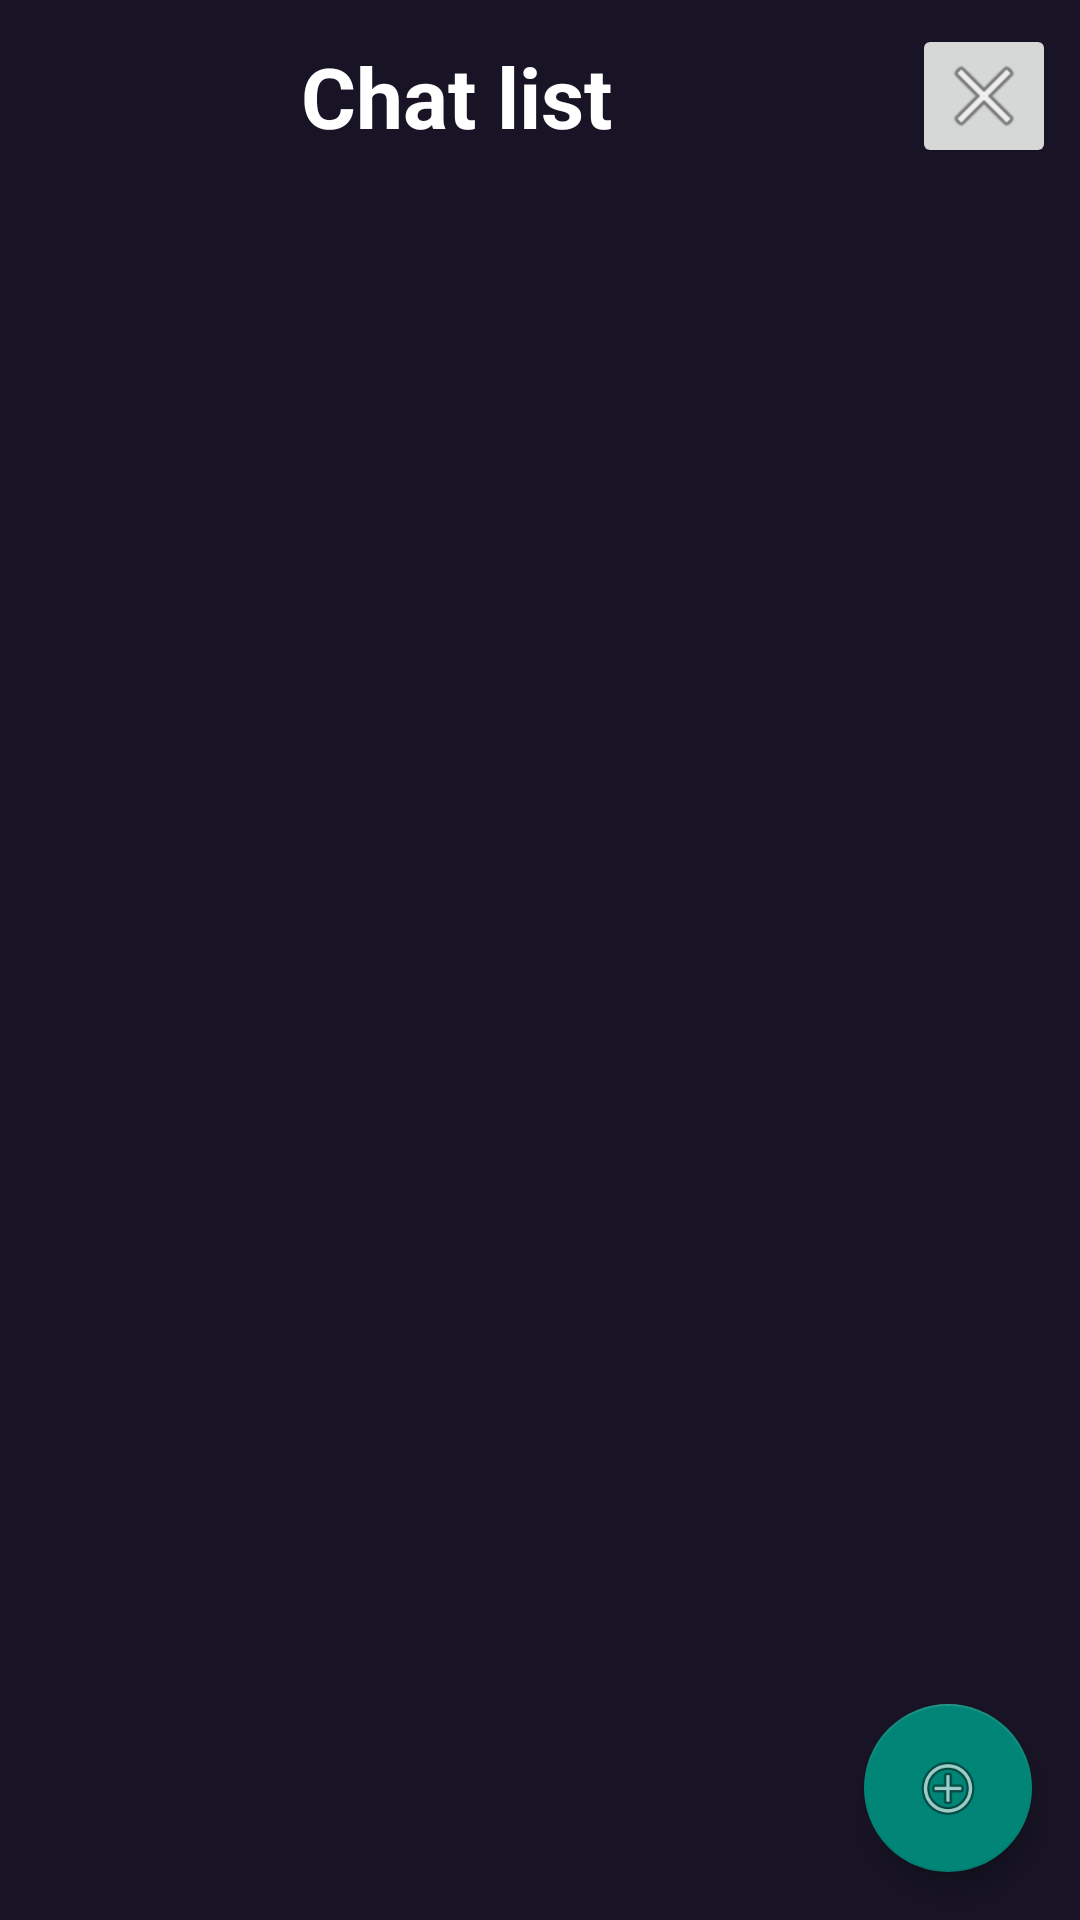

Icon bounding boxes for this 1080px x 1920px phone screenshot, format region(x1, y1, x2, y2):
Add chat: region(864, 1704, 1032, 1872)
Close: region(924, 42, 1044, 150)
